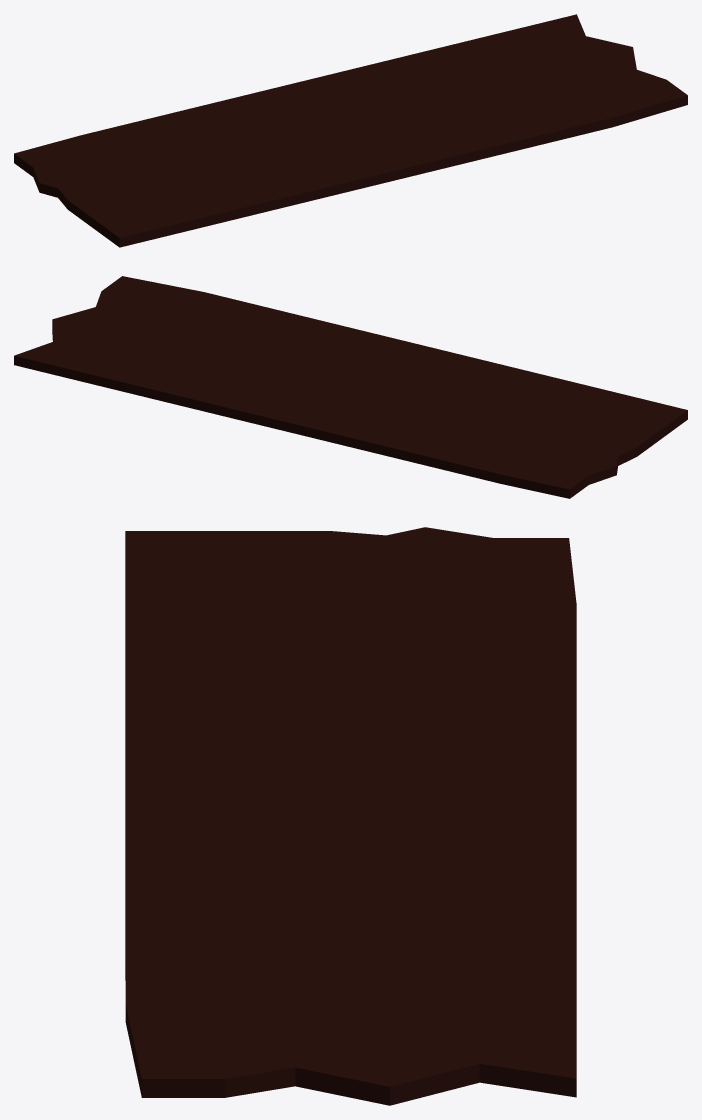
The model's file is BIW_WoodBoard.fbx.
3 views of the same model, one above another, from view 1: azimuth 30°, elevation 25°; view 2: azimuth 150°, elevation 25°; view 3: azimuth 270°, elevation 25° (orthographic). The views are drawn at different scales.
Visible parts, largest first — view 1: WoodBoard; view 2: WoodBoard; view 3: WoodBoard.
Boxes of the visible parts, bbox=[...] form: WoodBoard: bbox=[14, 14, 687, 247]; WoodBoard: bbox=[14, 276, 687, 498]; WoodBoard: bbox=[125, 527, 576, 1105].
Bounding box in the file's own units: 53.65 × 0.8446 × 18.27.
